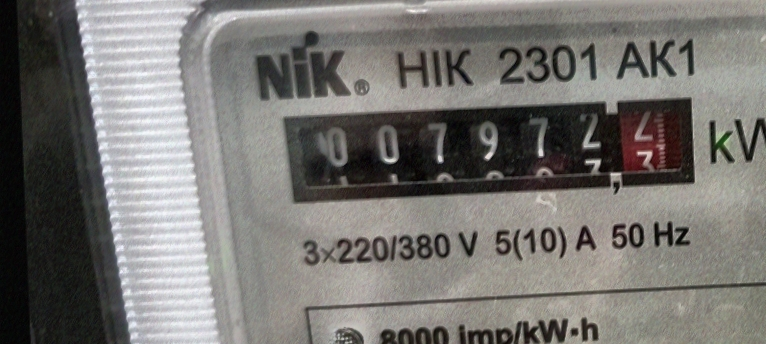0: (322, 124, 350, 167), (374, 121, 400, 164)
2: (577, 111, 601, 150), (628, 109, 653, 144)
3: (632, 146, 655, 172)
7: (524, 114, 552, 160), (424, 119, 450, 165)
9: (474, 117, 498, 162)
screen: (265, 85, 712, 217)
